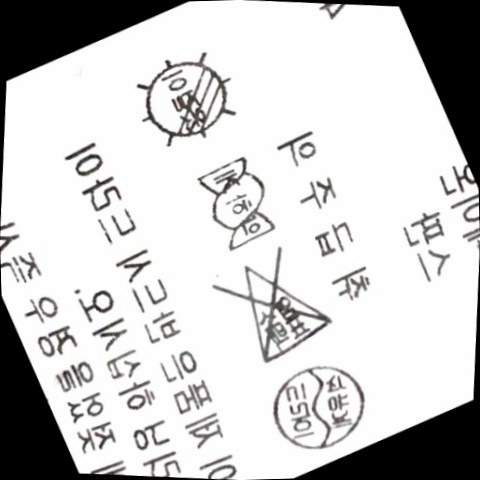dry_clean_petrol_only: (261, 358, 370, 454)
line_dry_in_shade: (132, 51, 241, 153)
non_chlorine_bleach: (221, 250, 332, 368)
wring: (187, 157, 280, 253)
